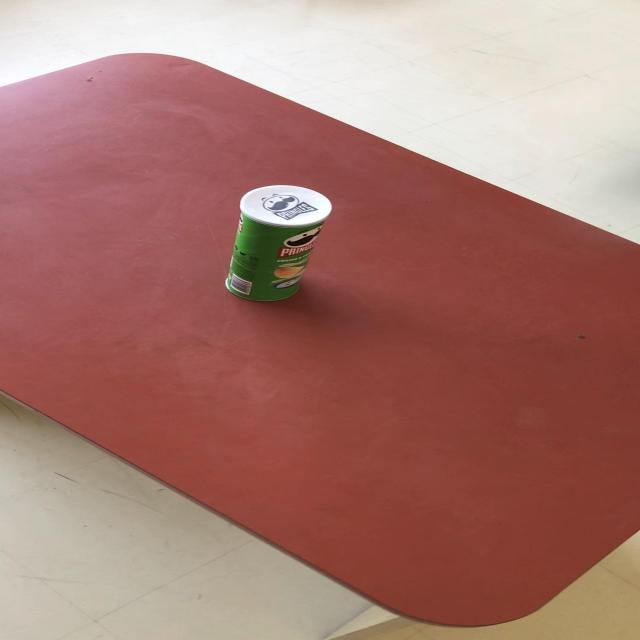a pringles: (222, 183, 331, 302)
